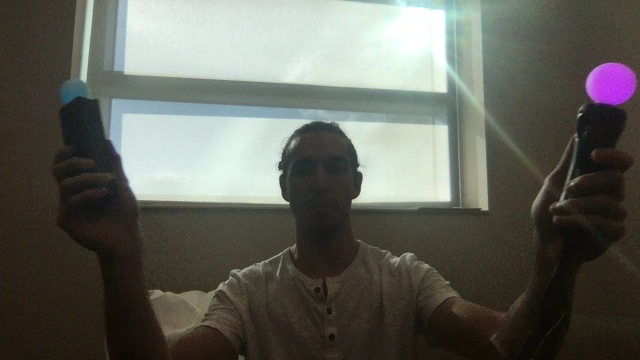wand: (585, 64, 636, 105), (63, 82, 89, 105)
